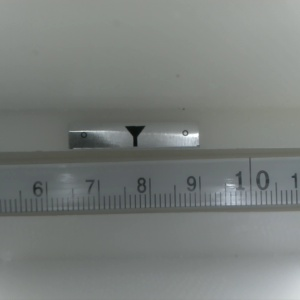0: (255, 170, 269, 190)
1: (233, 171, 242, 190), (290, 172, 297, 188)
6: (32, 181, 42, 196)
7: (85, 179, 94, 194)
8: (136, 177, 145, 193)
9: (186, 175, 196, 191)
finger: (123, 126, 145, 148)
